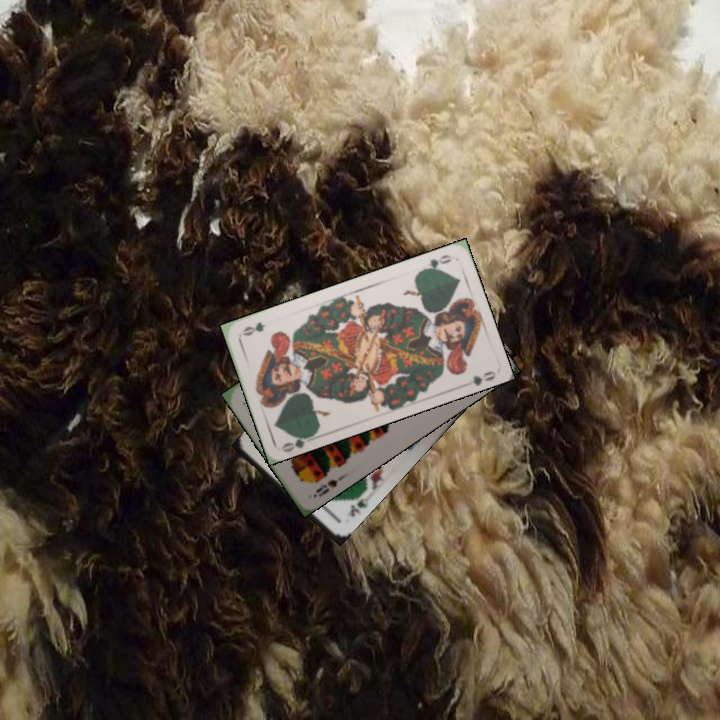GK: (346, 494, 371, 519)
GO: (278, 430, 317, 454), (417, 250, 454, 274)
S8: (312, 475, 340, 495)
